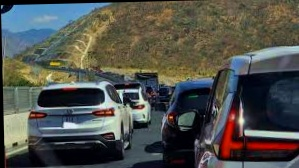Bien-so: (64, 116, 78, 128)
